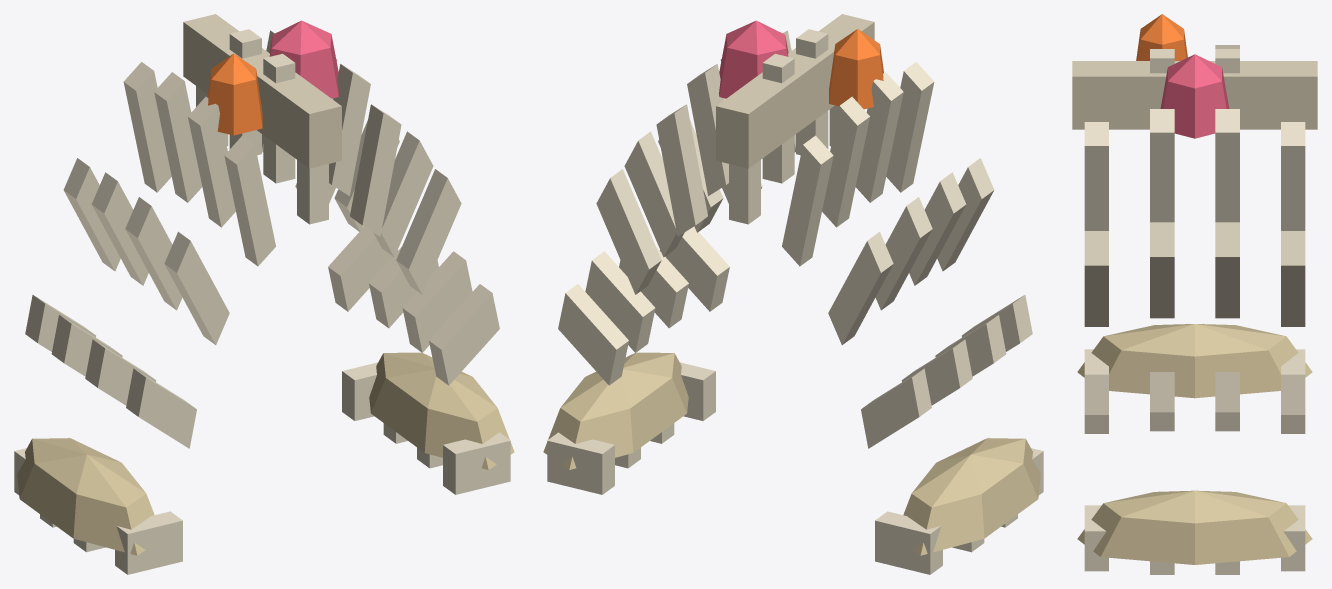
Rendered from env_r15_whale_rib_arch.glb.
The picture shows the model from 3 angles, left to right: view 1: azimuth 30°, elevation 25°; view 2: azimuth 150°, elevation 25°; view 3: azimuth 270°, elevation 25°; orthographic projection. The views are drawn at different scales.
Visible parts, largest first — view 1: env_r15_whale_rib_arch; view 2: env_r15_whale_rib_arch; view 3: env_r15_whale_rib_arch.
Part boxes in pixels (bbox=[...]): env_r15_whale_rib_arch: bbox=[14, 14, 514, 574]; env_r15_whale_rib_arch: bbox=[543, 14, 1043, 574]; env_r15_whale_rib_arch: bbox=[1072, 14, 1317, 574].
Size of the model in its own units: 6 by 6 by 3.
Materials: 1 (1 with a texture image).
